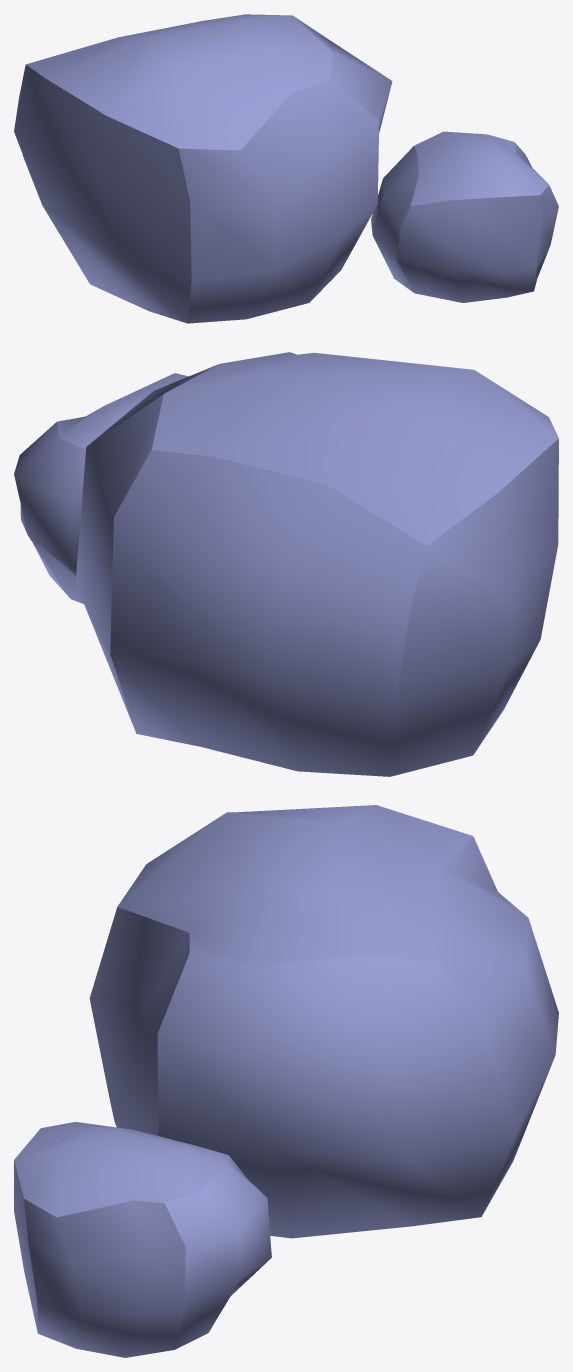
The model's file is Rook_3.fbx.
3 views of the same model, one above another, from view 1: azimuth 30°, elevation 25°; view 2: azimuth 150°, elevation 25°; view 3: azimuth 270°, elevation 25° (orthographic). The views are drawn at different scales.
Visible parts, largest first — view 1: Cube.045; view 2: Cube.045; view 3: Cube.045.
Boxes of the visible parts, left/top/right/bottom form: Cube.045: left=14, top=14, right=558, bottom=323; Cube.045: left=14, top=352, right=558, bottom=776; Cube.045: left=14, top=805, right=558, bottom=1357.
Bounding box in the file's own units: 209 × 118 × 168.
